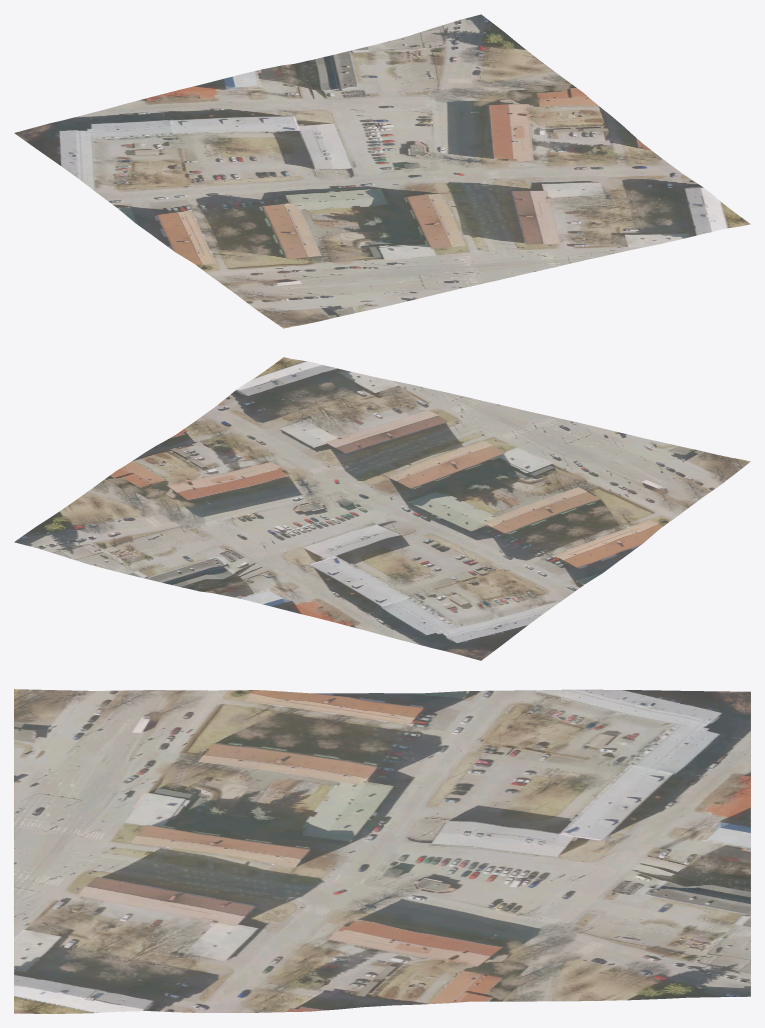
Rendered from CM_Terrain_24489434_6820818.fbx.
3 renders of one model, top to bottom at view 1: azimuth 30°, elevation 25°; view 2: azimuth 150°, elevation 25°; view 3: azimuth 270°, elevation 25°, orthographic. The views are drawn at different scales.
Parts seen in each view (by area): view 1: CM_Terrain_24489434_6820818_LOD0; view 2: CM_Terrain_24489434_6820818_LOD0; view 3: CM_Terrain_24489434_6820818_LOD0.
Boxes of the visible parts, left/top/right/bottom form: CM_Terrain_24489434_6820818_LOD0: left=14, top=14, right=750, bottom=328; CM_Terrain_24489434_6820818_LOD0: left=14, top=357, right=750, bottom=660; CM_Terrain_24489434_6820818_LOD0: left=14, top=689, right=750, bottom=1013.
Size of what is drawn, in the model's own units: 205 by 5.23 by 205.
